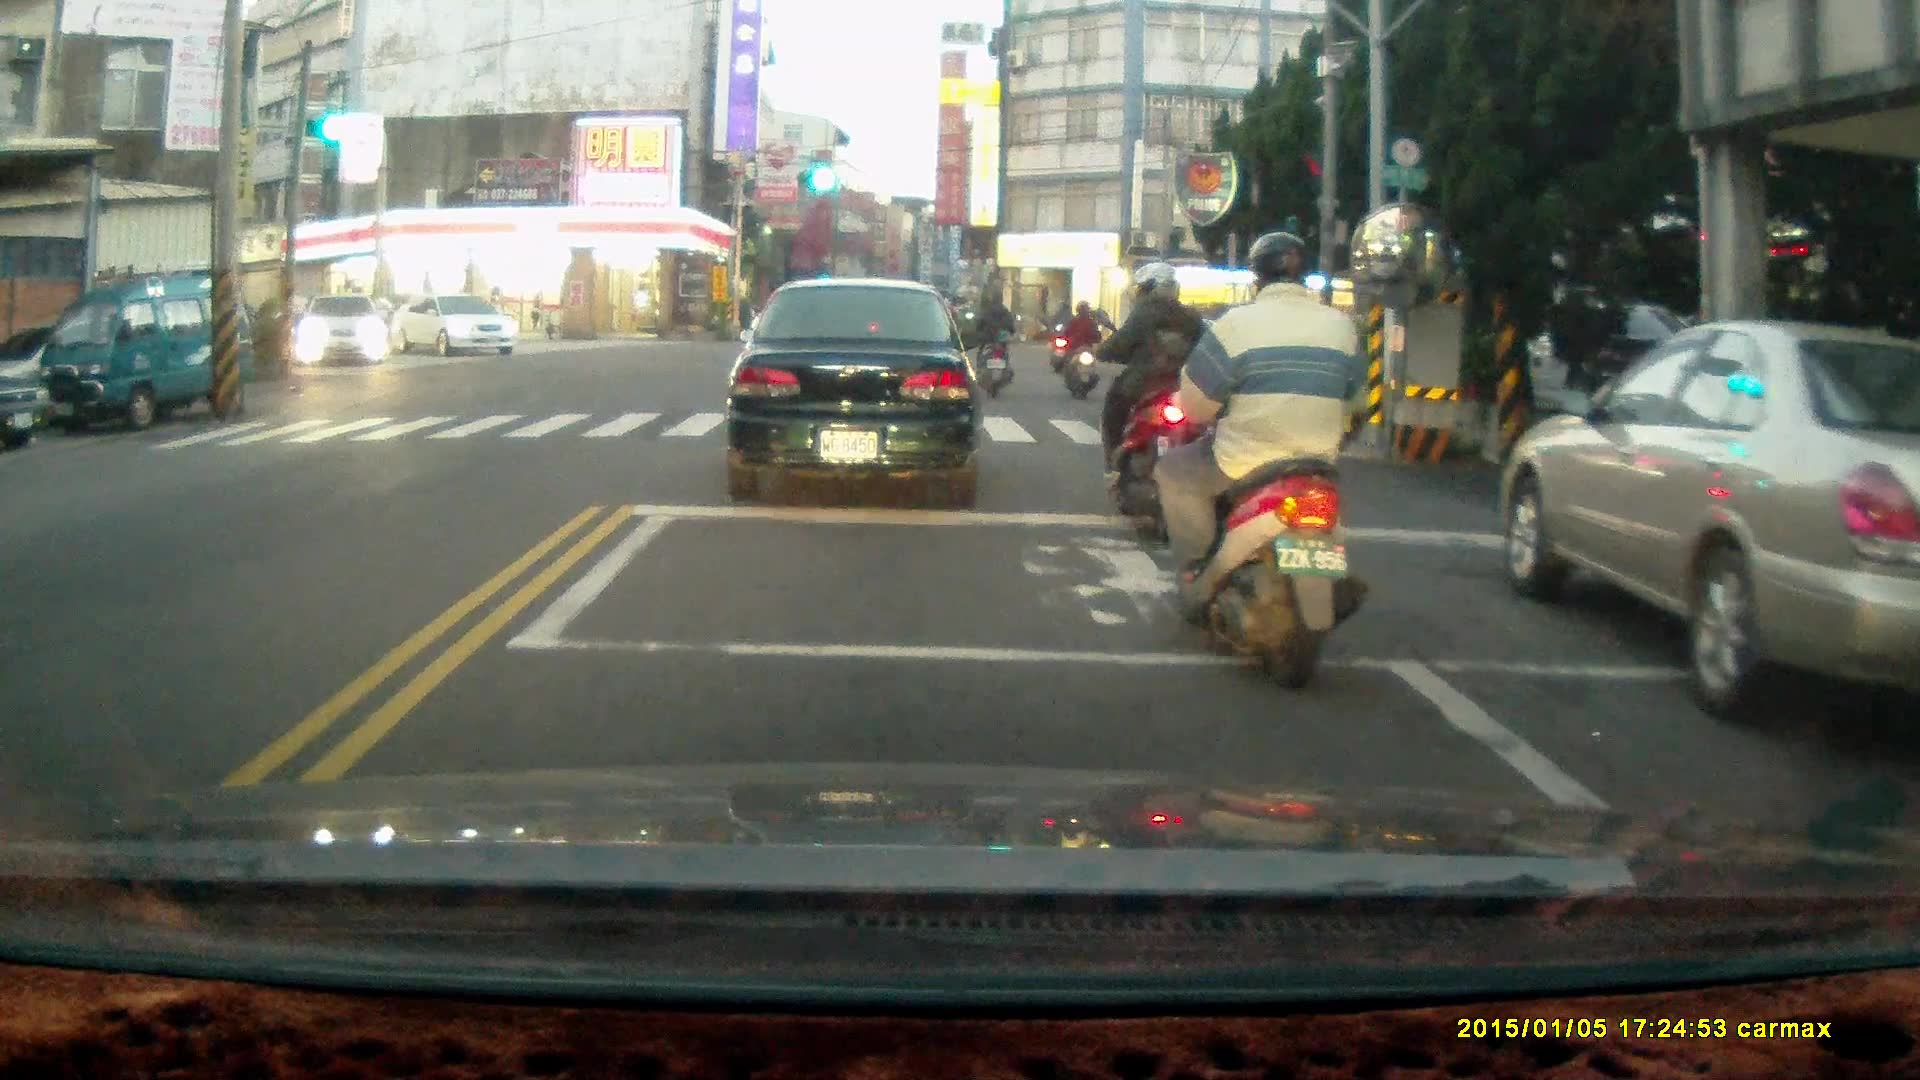rider: (1161, 232, 1380, 696), (1082, 257, 1218, 540), (963, 284, 1023, 396), (1058, 300, 1102, 401), (1044, 299, 1075, 374)
vehicle: (1497, 317, 1920, 731), (720, 276, 985, 505), (42, 264, 263, 432), (387, 293, 521, 362), (293, 293, 396, 369)
